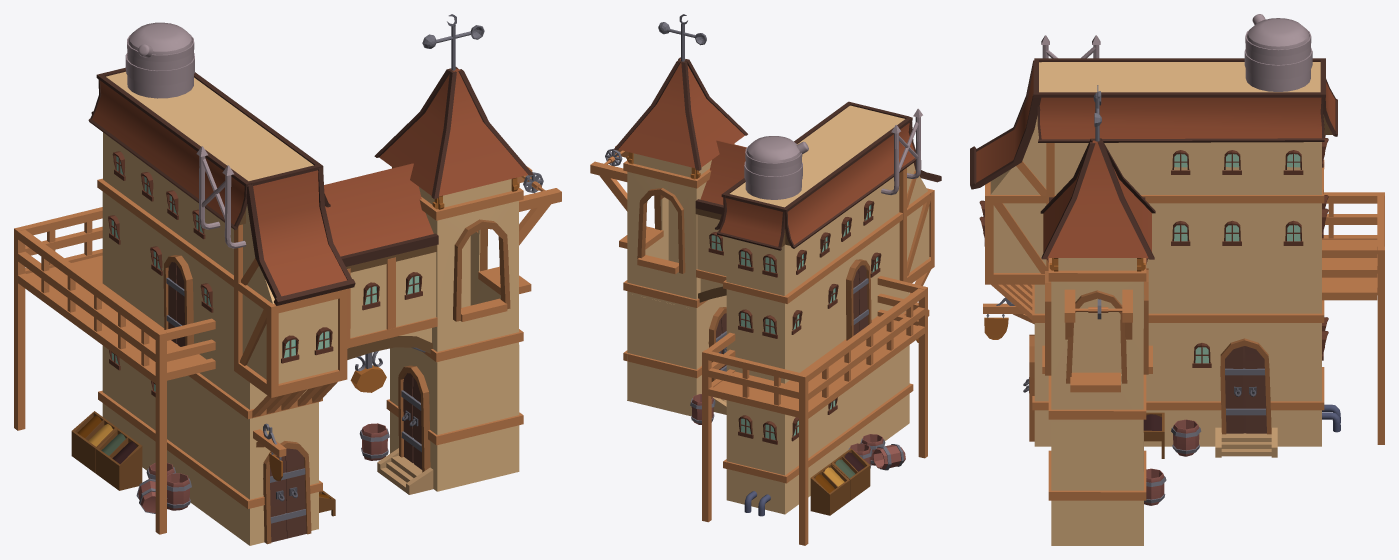
The model's file is house11.fbx.
3 renders of one model, left to right at view 1: azimuth 30°, elevation 25°; view 2: azimuth 150°, elevation 25°; view 3: azimuth 270°, elevation 25°, orthographic. The views are drawn at different scales.
Parts seen in each view (by area): view 1: house; view 2: house; view 3: house.
Boxes of the visible parts, x1=… form: house: x1=14, y1=14, x2=561, y2=545; house: x1=590, y1=14, x2=941, y2=545; house: x1=970, y1=14, x2=1384, y2=545.
Bounding box in the file's own units: 975 × 1096 × 936.
